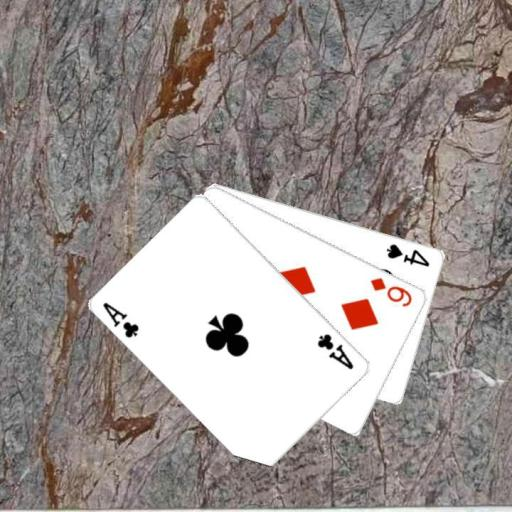4S: (383, 240, 432, 268)
6D: (368, 274, 415, 309)
AC: (100, 299, 141, 340), (315, 331, 356, 371)
